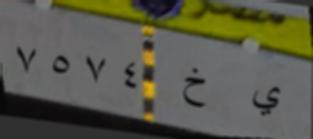4: (119, 58, 139, 91)
5: (49, 49, 72, 84)
7: (14, 39, 39, 79), (82, 50, 108, 86)
khaa: (178, 62, 208, 112)
yaa: (247, 78, 282, 123)
